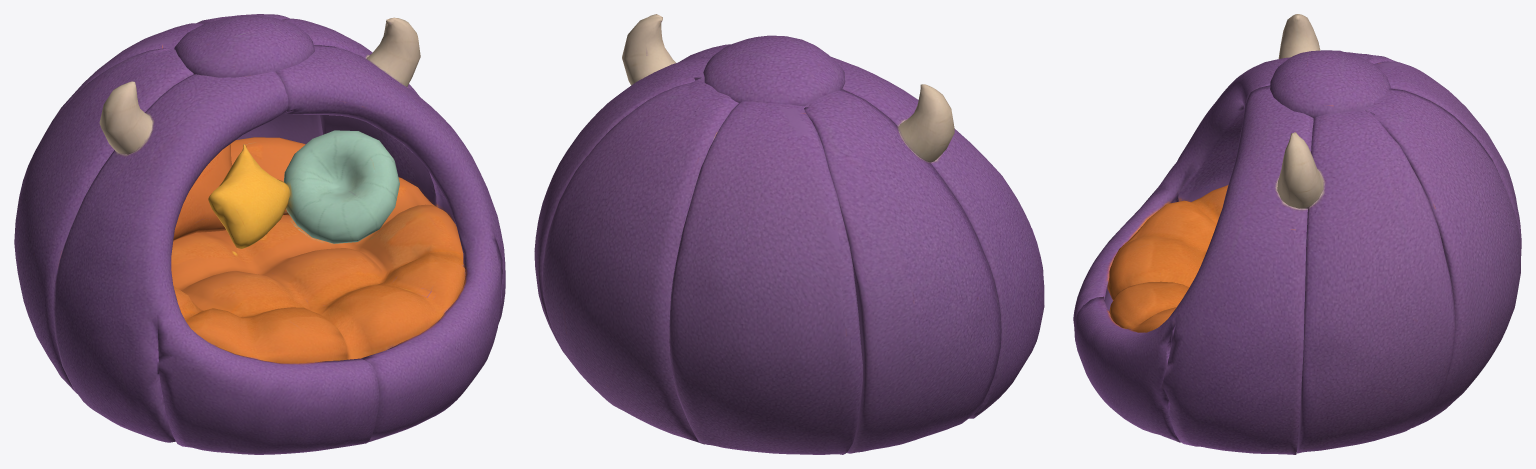
File: nest-bed.glb
3 renders of one model, left to right at view 1: azimuth 30°, elevation 25°; view 2: azimuth 150°, elevation 25°; view 3: azimuth 270°, elevation 25°, orthographic. The views are drawn at different scales.
Visible parts, largest first — view 1: Mesh0; view 2: Mesh0; view 3: Mesh0.
Part boxes in pixels (x1,y1,x2,y2): Mesh0: (14, 14, 505, 454); Mesh0: (534, 14, 1044, 454); Mesh0: (1073, 14, 1521, 454).
Size of the model in its own units: 0.5774 by 0.45 by 0.5717.
1 material, 1 textured.
